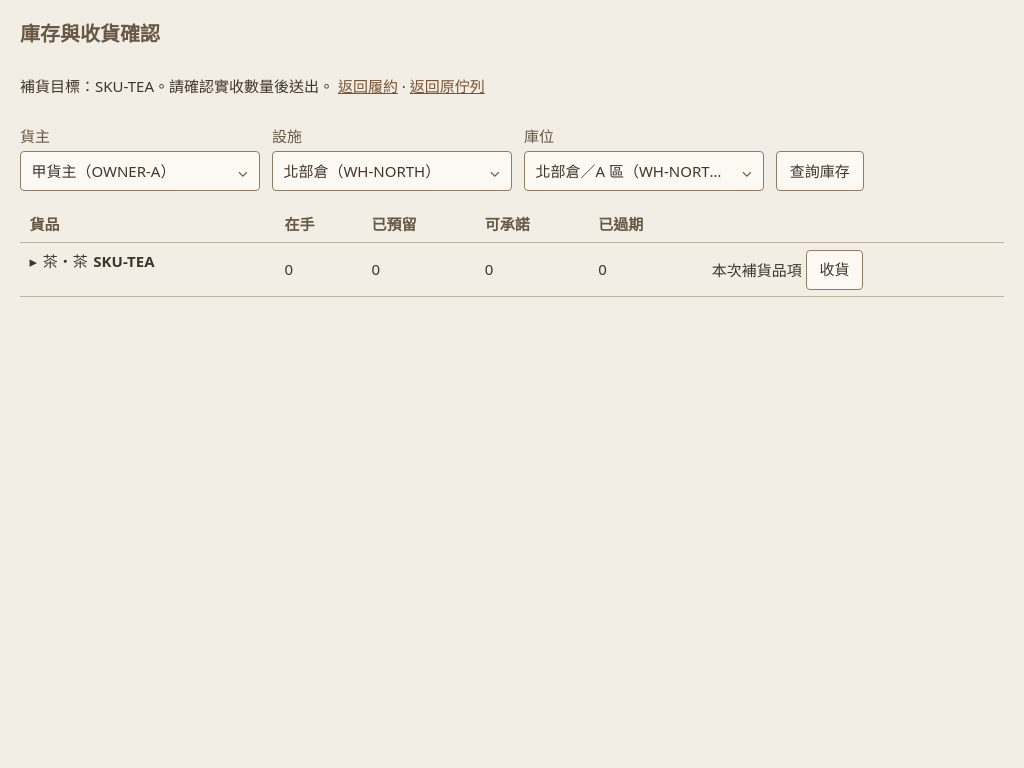
Test case: T6 補貨定位與重試 › 結果不明使用相同 ID 與 payload 重試，送出期間不可重複收貨
The image size is (1024, 768).
Click the button "收貨" at x=834, y=270, box top-left (806, 250), bottom-right (863, 290)
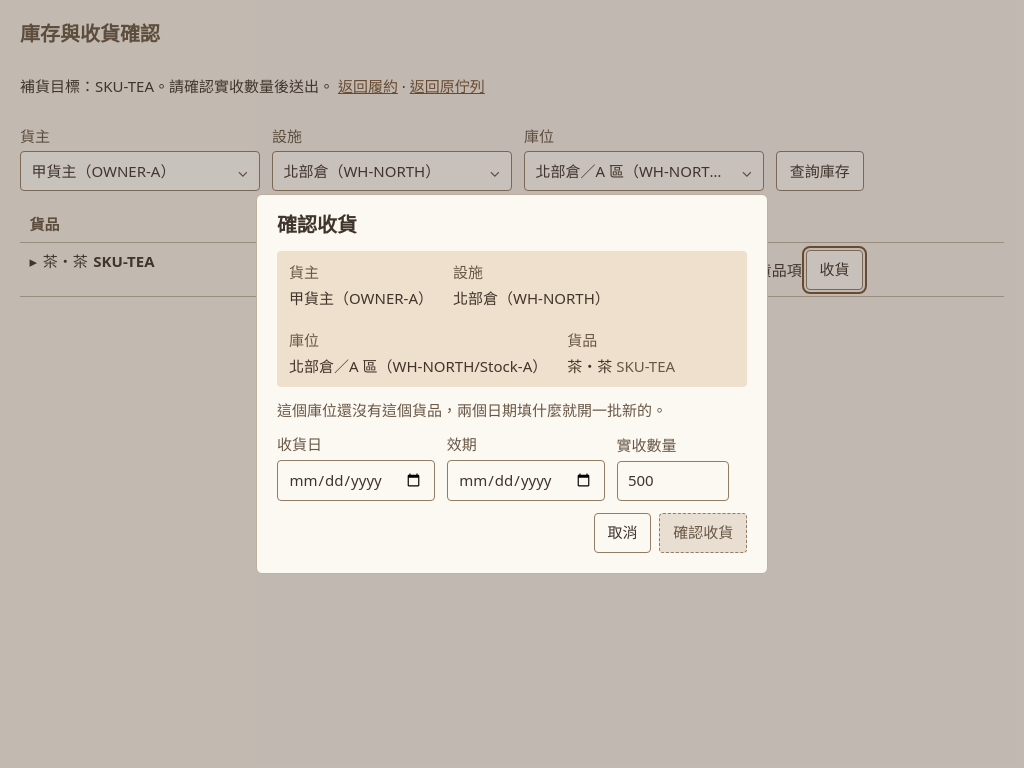
Type "2026-07-01" into the date field labelled "收貨日" at x=356, y=480, box top-left (277, 460), bottom-right (435, 501)
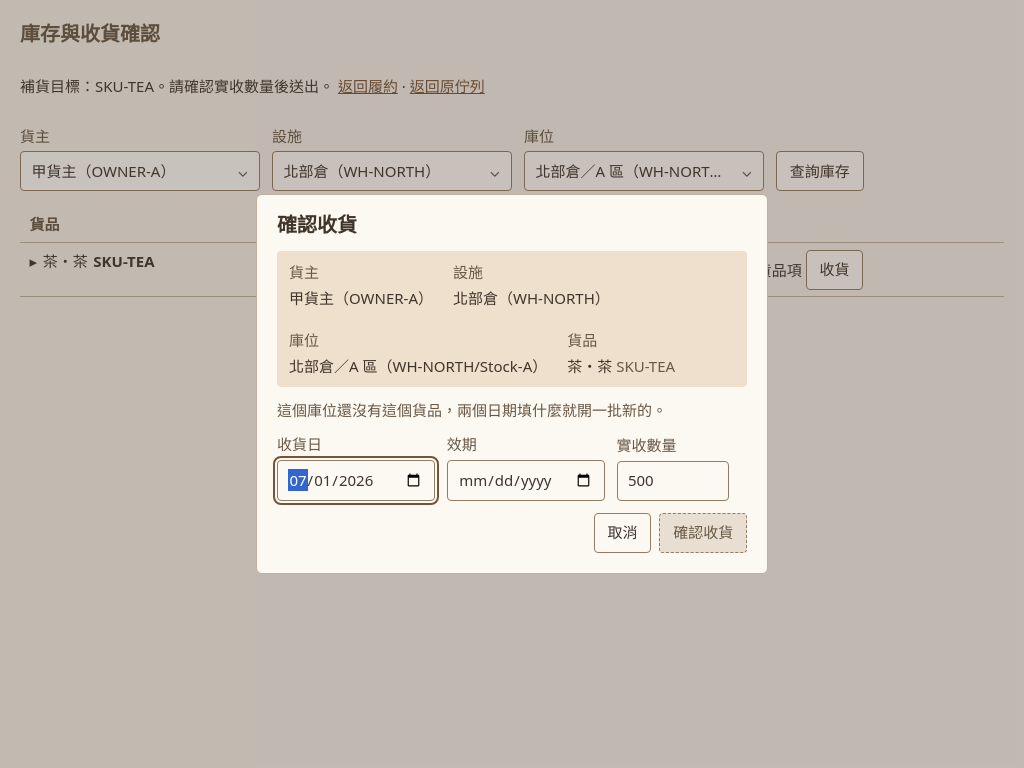
Type "2027-07-01" into the date field labelled "效期" at x=526, y=480, box top-left (447, 460), bottom-right (605, 501)
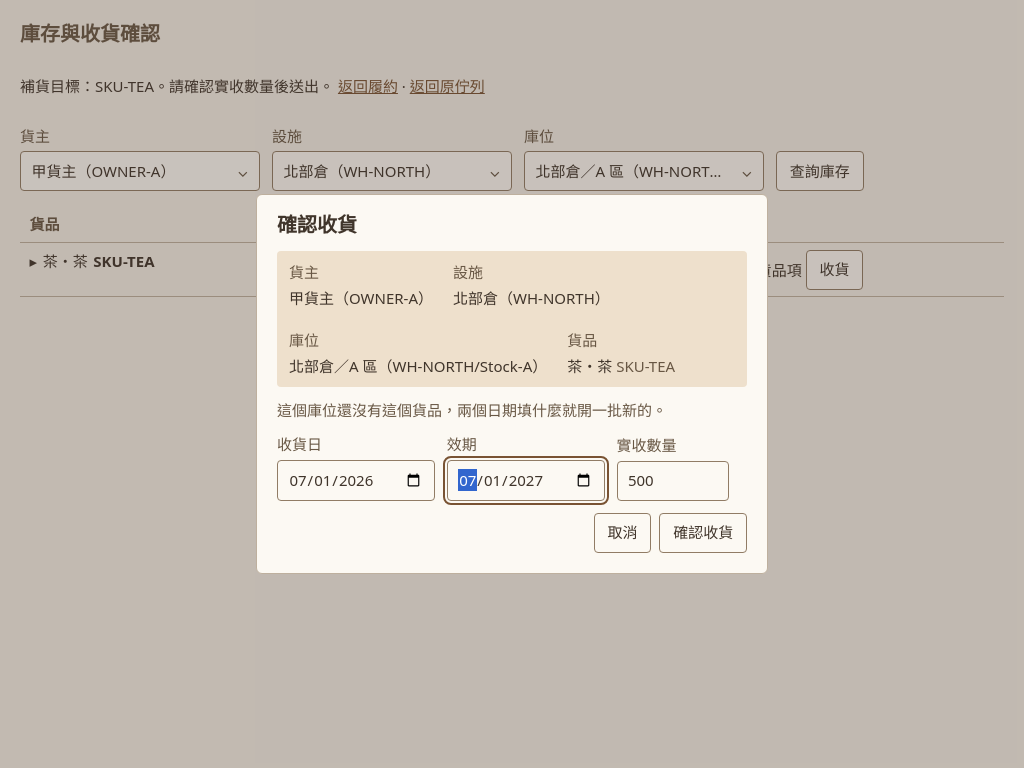
Replace the text in the field labelled "實收數量" with "12" at x=673, y=481, box top-left (617, 461), bottom-right (729, 501)
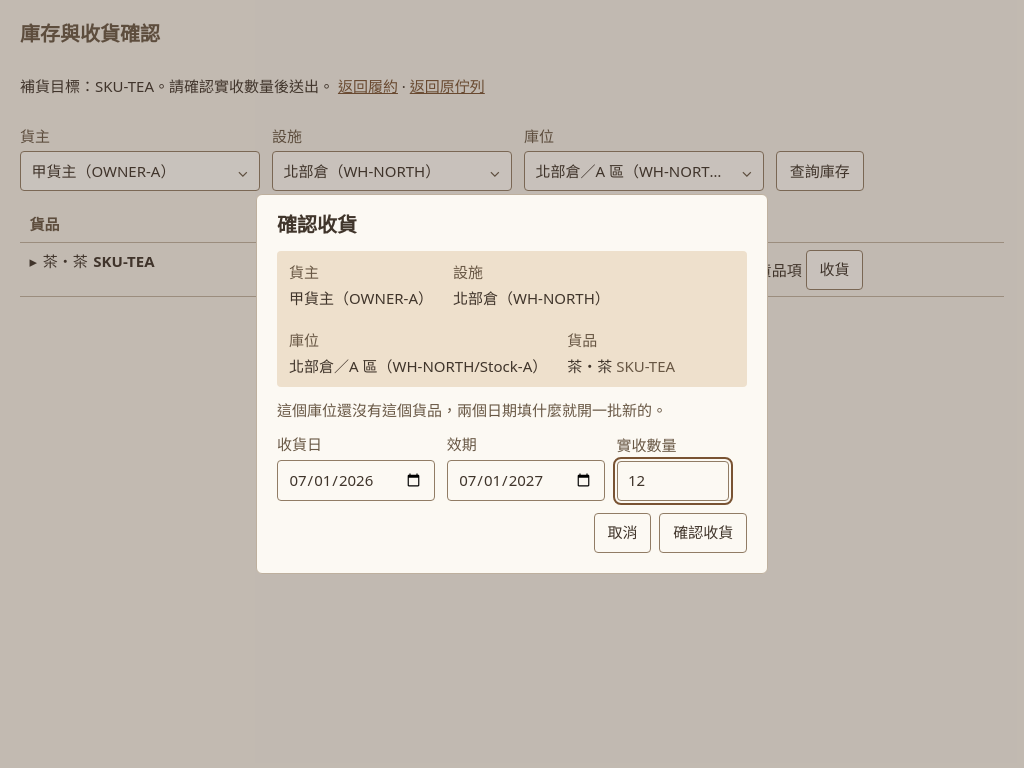
Click the button "確認收貨" at x=703, y=533, box top-left (659, 513), bottom-right (747, 553)
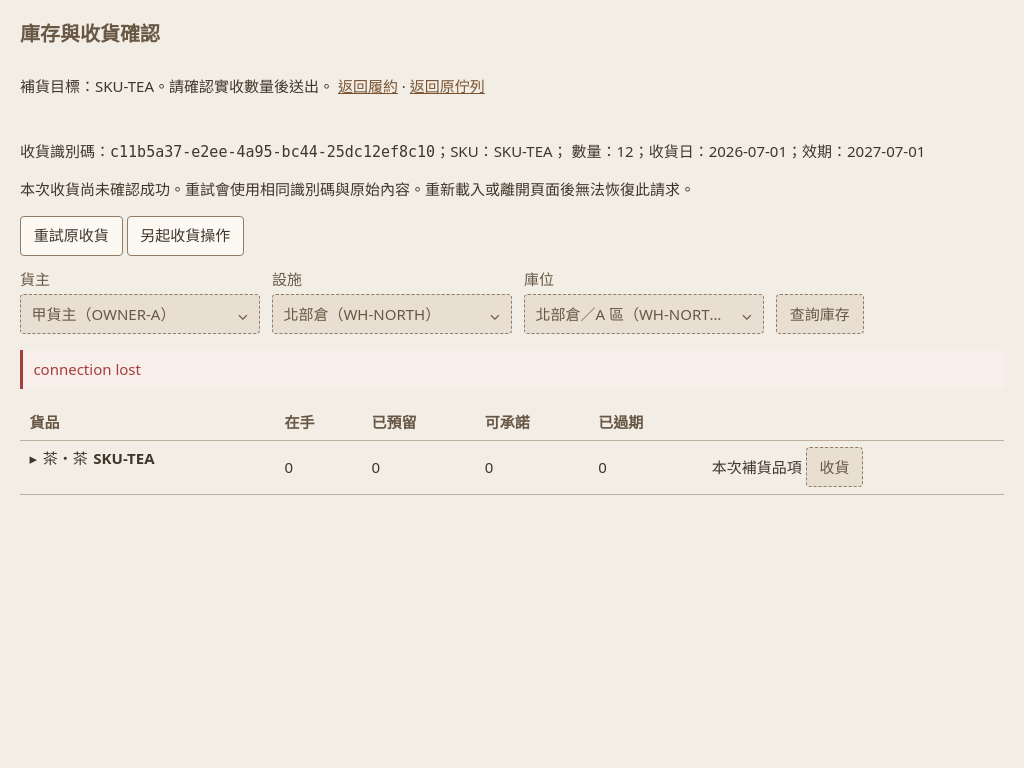
Expected: the dropdown named "庫位" is disabled, top-left (524, 294), bottom-right (764, 334)
Result: the button "重試原收貨" is shown
Result: the button "收貨" is disabled at top-left (806, 447), bottom-right (863, 487)
Double-click the button "重試原收貨" at x=71, y=236, box top-left (20, 216), bottom-right (123, 256)
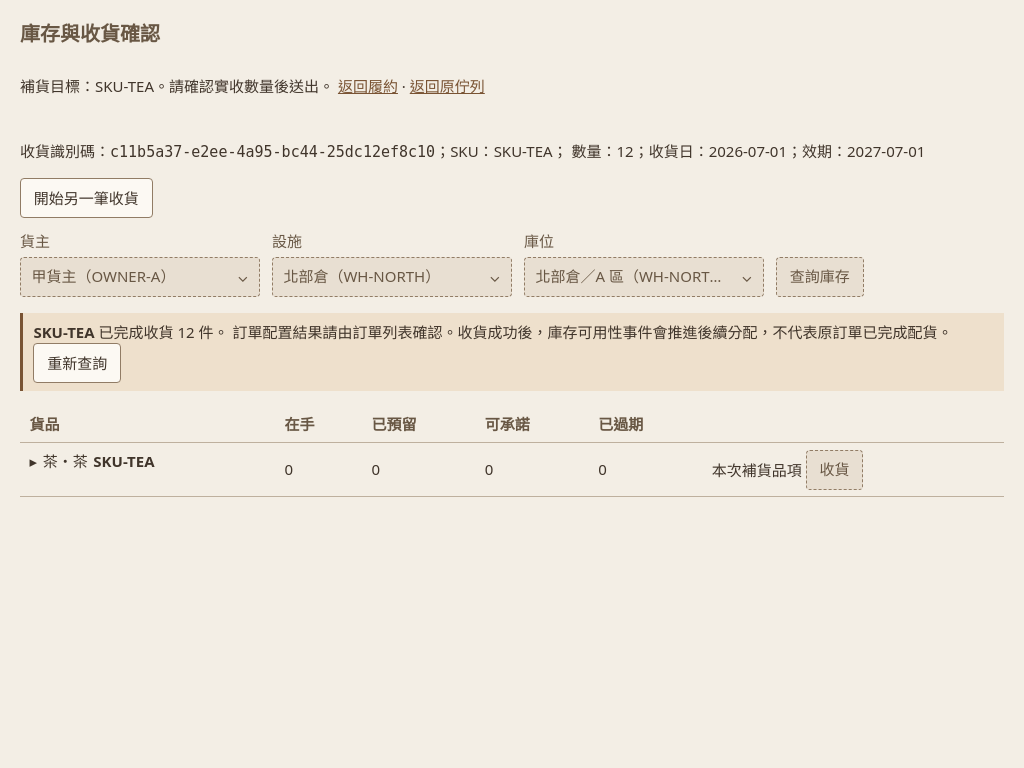
Result: the text "已完成收貨" is shown at top-left (95, 322), bottom-right (174, 342)
